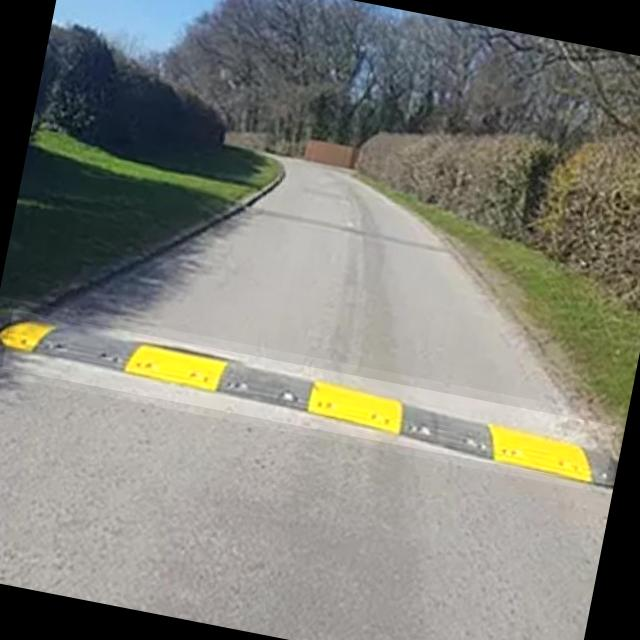bump: (2, 310, 616, 486)
